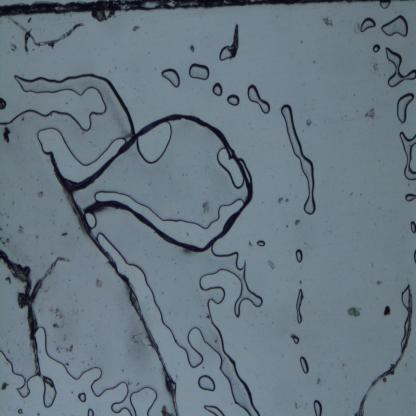Air bubble: (96, 236, 260, 414), (67, 195, 180, 416), (34, 320, 160, 414), (0, 70, 125, 159), (94, 186, 252, 248), (33, 122, 133, 186), (281, 104, 316, 215), (0, 345, 34, 399), (136, 121, 172, 164), (383, 46, 416, 88), (217, 146, 245, 189), (399, 131, 416, 181), (246, 84, 270, 114), (380, 14, 410, 36), (396, 92, 414, 126), (188, 62, 210, 81), (41, 381, 56, 407), (196, 373, 216, 392), (161, 70, 181, 88), (400, 282, 412, 310), (359, 16, 376, 34), (85, 210, 98, 232), (296, 288, 303, 325), (204, 404, 226, 415), (300, 354, 310, 376), (312, 396, 322, 416), (227, 92, 240, 106), (219, 45, 230, 61), (212, 82, 223, 96), (295, 248, 304, 264), (379, 0, 393, 10), (404, 192, 416, 202), (0, 97, 8, 111), (77, 392, 87, 403), (290, 334, 300, 345), (372, 42, 381, 54), (257, 240, 266, 249), (410, 221, 416, 233), (87, 409, 95, 415), (413, 250, 416, 263), (18, 409, 23, 414)
Background material: (263, 250, 278, 271), (361, 106, 377, 124), (321, 12, 335, 32), (3, 124, 12, 146), (346, 305, 361, 318), (277, 188, 288, 205), (382, 303, 392, 317), (295, 214, 304, 229)
Cellulose filter fibre: (0, 251, 70, 377), (359, 289, 413, 415), (6, 18, 84, 47), (228, 23, 240, 58)
Cotton: (60, 108, 252, 253)
Edge of slide: (0, 0, 372, 19)
